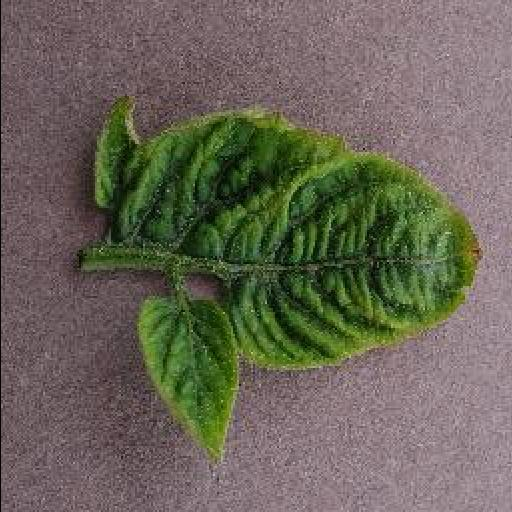disease_tomato: (91, 100, 485, 464)
